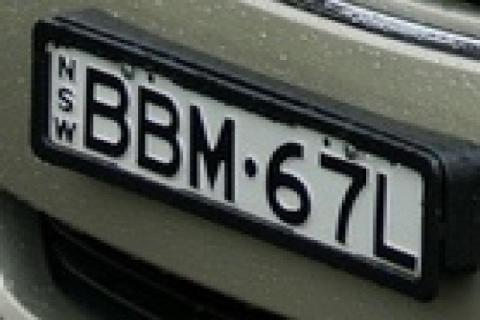LicensePlate: (26, 3, 464, 298)
